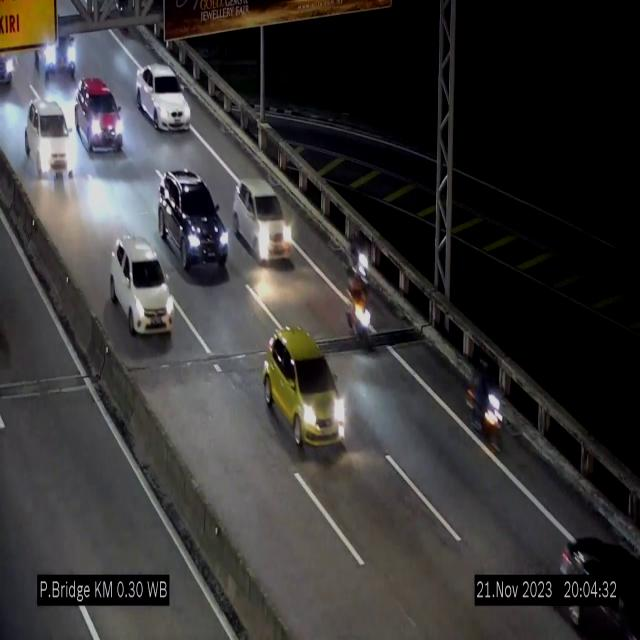Car: (553, 514, 640, 640), (263, 329, 346, 455), (156, 166, 230, 276), (110, 236, 175, 336), (233, 178, 294, 265), (23, 100, 75, 180), (33, 12, 86, 84), (76, 75, 124, 153), (136, 64, 191, 130), (0, 32, 20, 100)
Motorcycle: (467, 354, 506, 462), (349, 280, 375, 356), (350, 226, 370, 284)
